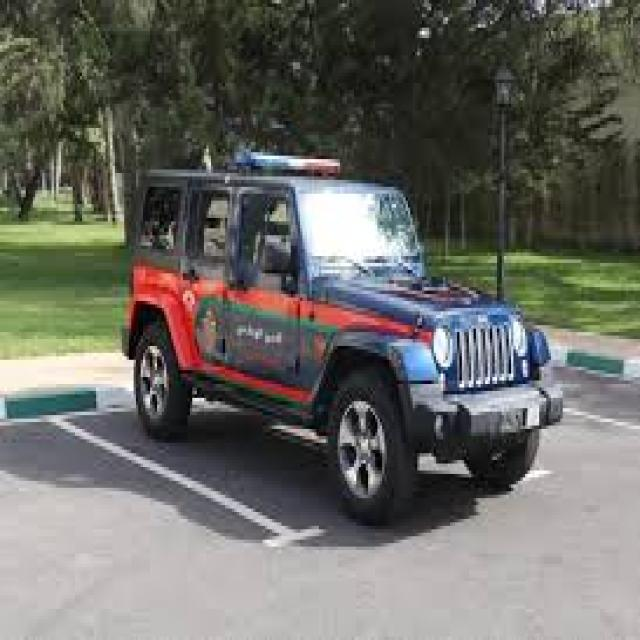police: (128, 151, 566, 527)
